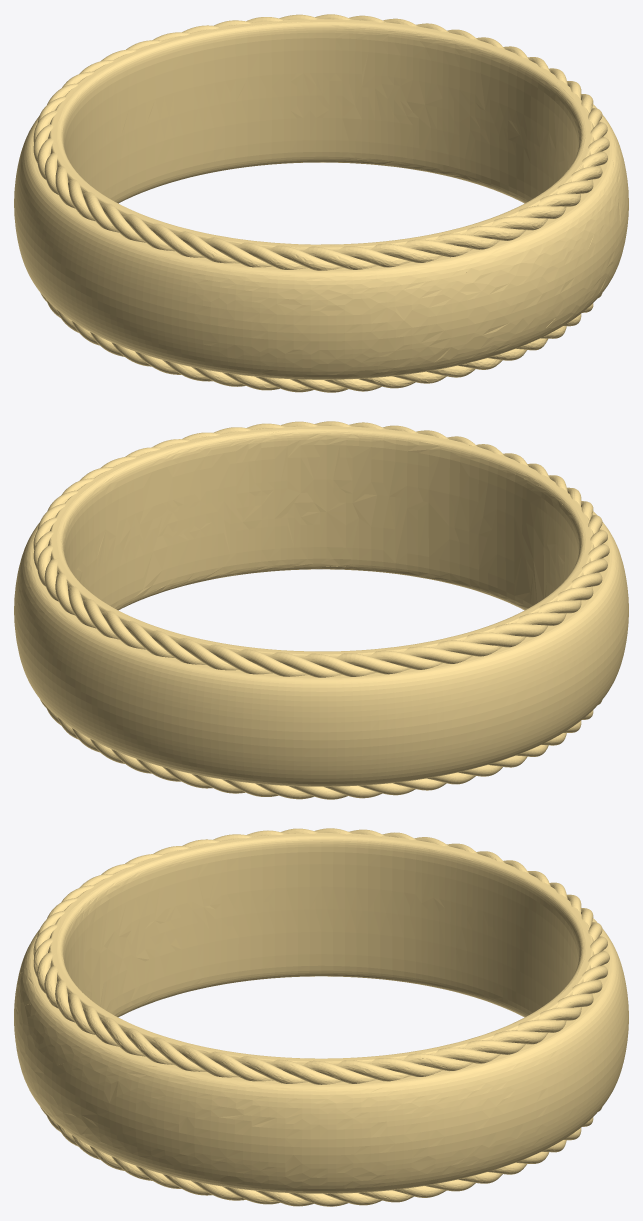
Rendered from rope-edge-band.glb.
3 views of the same model, one above another, from view 1: azimuth 30°, elevation 25°; view 2: azimuth 150°, elevation 25°; view 3: azimuth 270°, elevation 25° (orthographic).
Visible parts, largest first — view 1: Metal Yellow Gold; view 2: Metal Yellow Gold; view 3: Metal Yellow Gold.
Boxes of the visible parts, x1,y1,x2,y2 form: Metal Yellow Gold: (14,14,628,392); Metal Yellow Gold: (14,421,628,799); Metal Yellow Gold: (14,828,628,1206).
Bounding box in the file's own units: 23.8 × 6.14 × 23.79.
